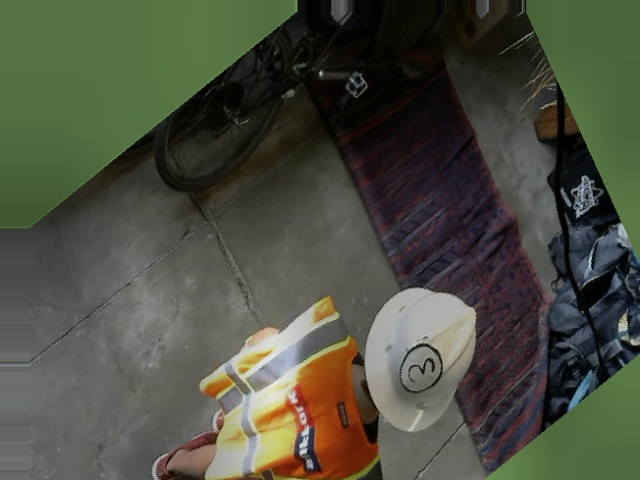three: (391, 330, 448, 402)
